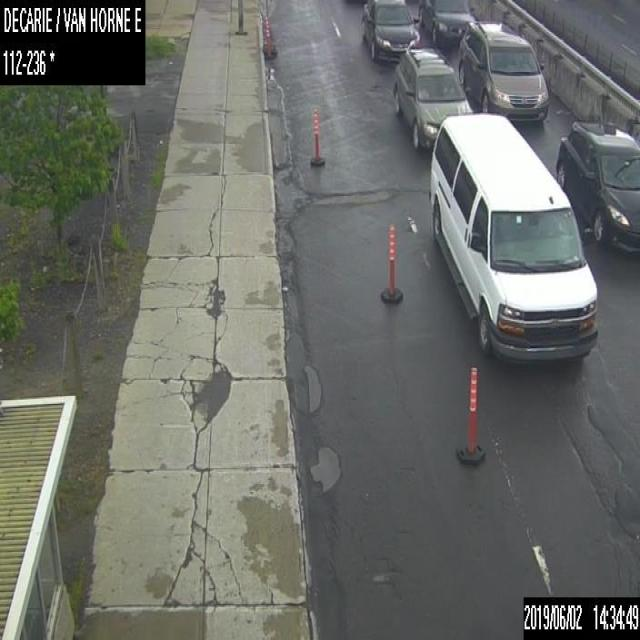construction: (458, 363, 486, 464), (380, 221, 404, 304), (309, 104, 325, 165), (262, 16, 272, 57)
vehicle: (430, 112, 596, 362), (555, 117, 639, 257), (457, 21, 547, 124), (392, 46, 472, 154), (361, 0, 421, 65), (417, 0, 477, 48)
